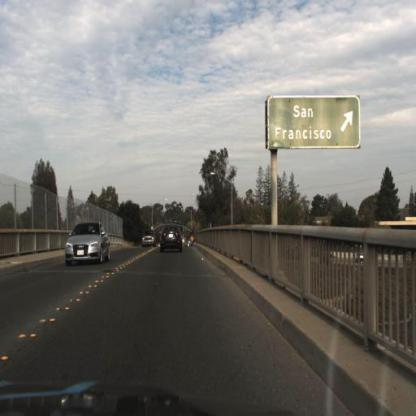car: (65, 221, 110, 265), (160, 224, 186, 257), (141, 230, 158, 251)
